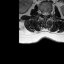CCS_stenosis: (44, 9, 46, 18)
LFS_normal: (48, 10, 50, 16)
LLS_normal: (46, 9, 48, 17)
RFS_normal: (40, 9, 42, 16)
RLS_normal: (42, 9, 44, 17)
